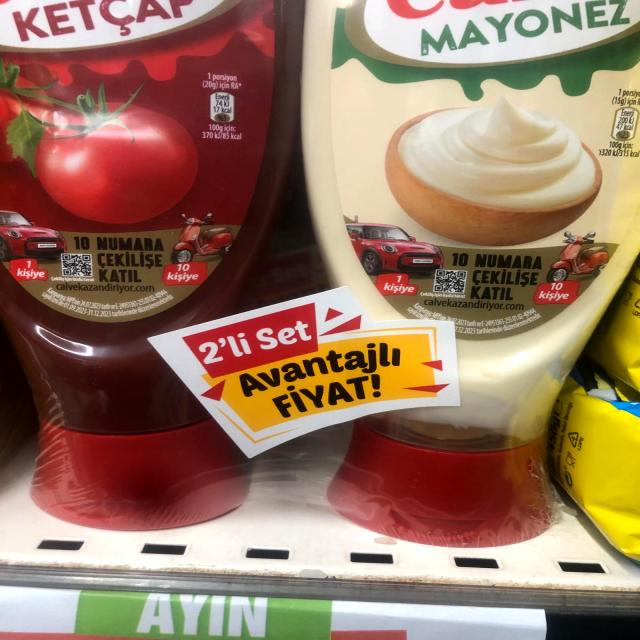ketchup: (0, 0, 303, 535)
mayonnaise: (301, 0, 640, 553)
